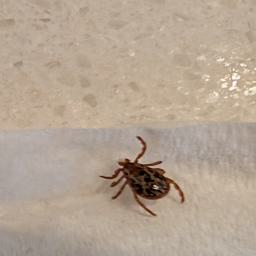Dermacentor variabilis: (101, 136, 185, 216)
